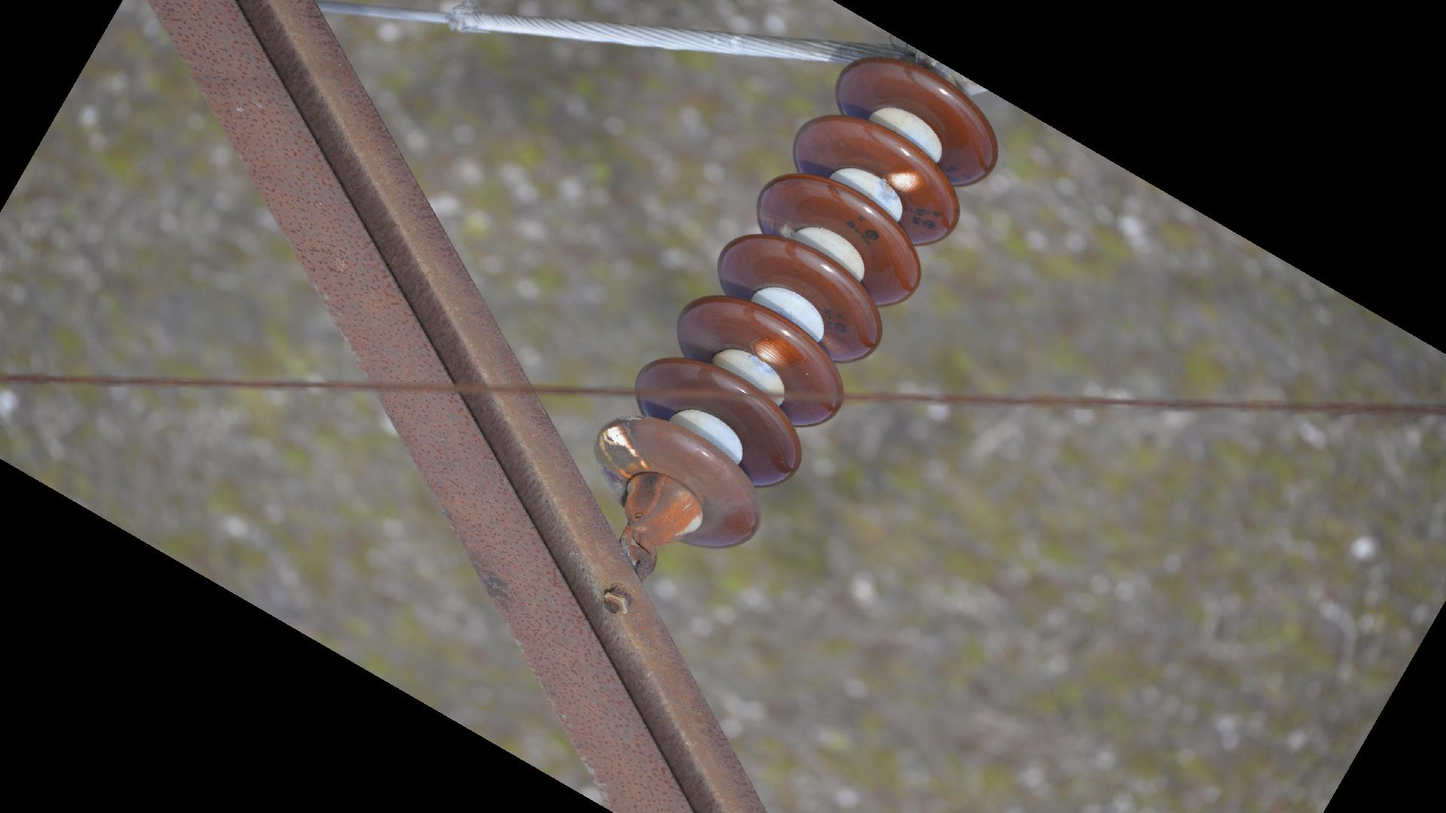insulator: (588, 53, 1005, 556)
insulator_flashover: (596, 418, 651, 480), (749, 333, 805, 369), (883, 167, 929, 197)
